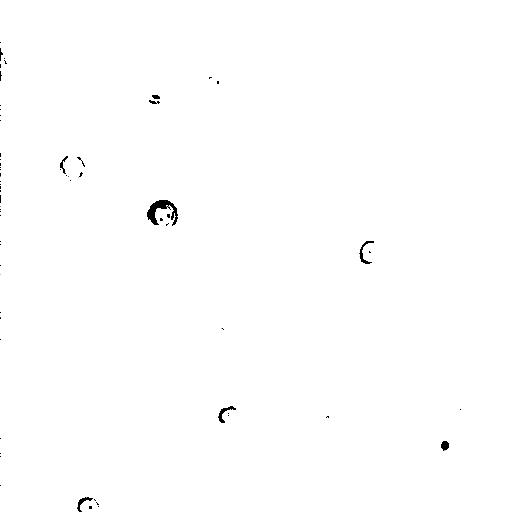micro-algae: (458, 159, 511, 240), (429, 425, 461, 465), (144, 198, 178, 231), (57, 149, 86, 181), (198, 71, 229, 96), (358, 241, 383, 266), (247, 0, 282, 15), (75, 496, 101, 511), (218, 405, 238, 424), (1, 49, 10, 78)
